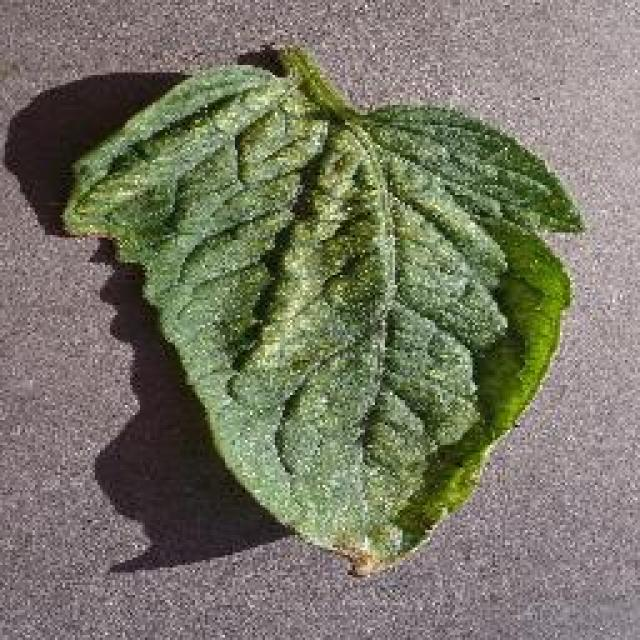Tomato___Spider_mites Two-spotted_spider_mite: (62, 48, 580, 570)
